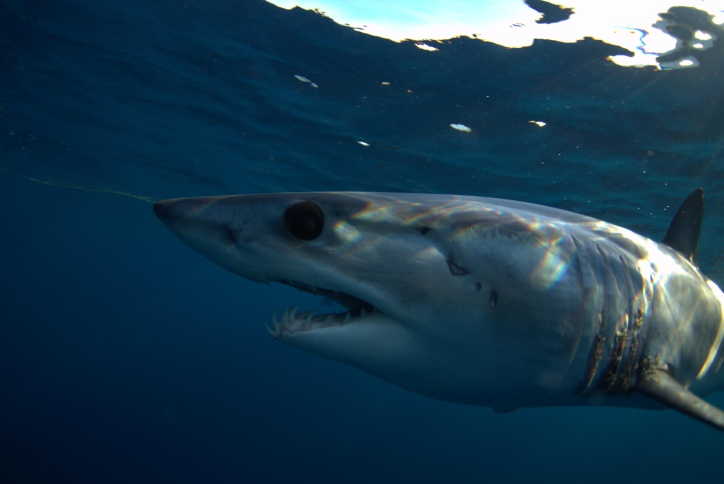Mako: (127, 176, 724, 435)
